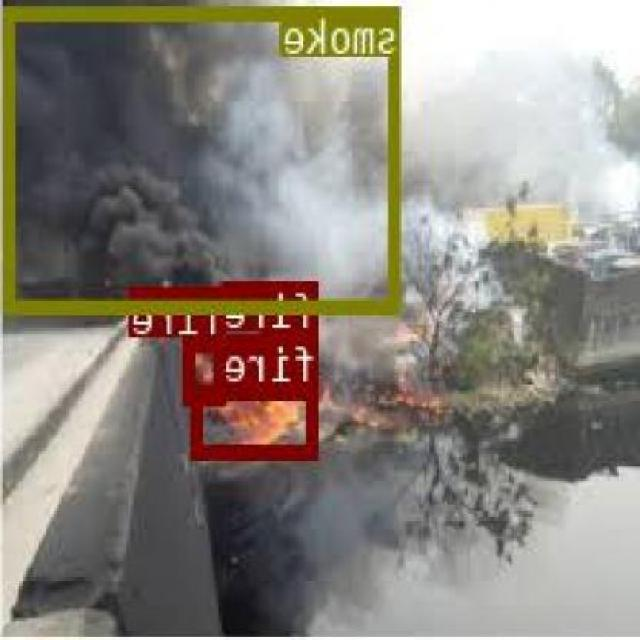Fire: (194, 384, 320, 454), (188, 336, 228, 401), (264, 331, 320, 374)
Smoke: (6, 3, 402, 312)
